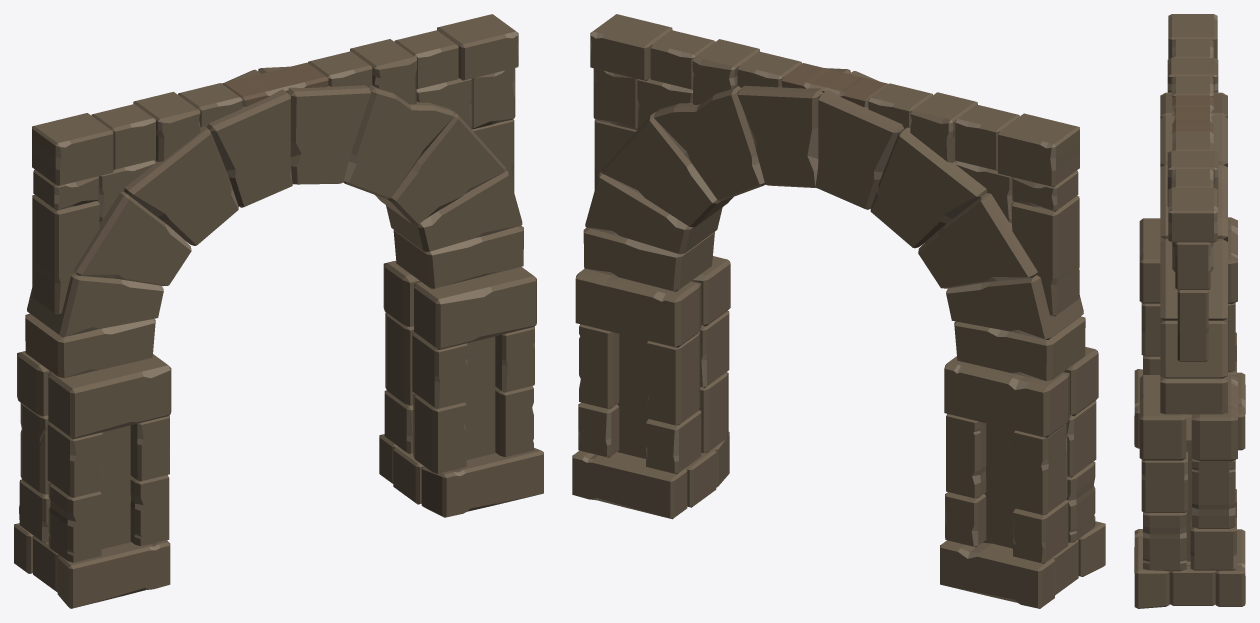
Rendered from entrada_arch_lev3.glb.
3 views of the same model, side by side, from view 1: azimuth 30°, elevation 25°; view 2: azimuth 150°, elevation 25°; view 3: azimuth 270°, elevation 25° (orthographic). The views are drawn at different scales.
Parts seen in each view (by area): view 1: entrada_arch_lev3; view 2: entrada_arch_lev3; view 3: entrada_arch_lev3.
Part boxes in pixels (x1,y1,x2,y2): entrada_arch_lev3: (14, 14, 543, 608); entrada_arch_lev3: (572, 14, 1105, 608); entrada_arch_lev3: (1134, 14, 1245, 608).
Bounding box in the file's own units: 9.66 × 8.74 × 2.23.
